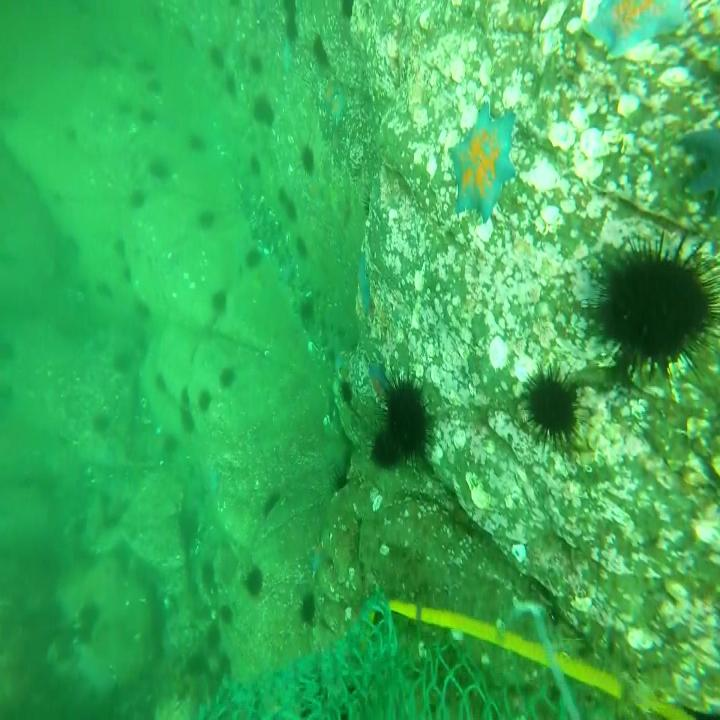echinus: (582, 228, 720, 386), (519, 361, 584, 455), (384, 368, 430, 466), (368, 429, 400, 472), (298, 588, 318, 630), (330, 456, 350, 493), (244, 564, 265, 599), (252, 97, 274, 128), (312, 31, 329, 70), (185, 129, 210, 155), (80, 600, 100, 632), (187, 649, 208, 679), (218, 362, 237, 393), (262, 490, 282, 519), (300, 143, 316, 178), (199, 560, 216, 592), (211, 286, 229, 316), (148, 155, 168, 181), (338, 374, 354, 406), (0, 334, 16, 366), (284, 15, 302, 43), (244, 244, 263, 270), (299, 299, 316, 327), (0, 373, 14, 407), (91, 410, 110, 435), (136, 56, 158, 77), (205, 621, 222, 648), (116, 97, 134, 121), (180, 409, 197, 434), (210, 46, 225, 74), (164, 431, 179, 458), (145, 76, 165, 96), (112, 352, 131, 373), (138, 107, 157, 128), (224, 71, 238, 99), (134, 297, 151, 320), (198, 388, 213, 414), (295, 235, 311, 259), (64, 123, 80, 146), (184, 24, 197, 52), (198, 208, 215, 229), (219, 602, 234, 625), (94, 279, 112, 298), (340, 0, 357, 20), (130, 187, 145, 208), (250, 152, 262, 177), (154, 371, 168, 391), (250, 54, 262, 76), (282, 0, 298, 16), (180, 386, 192, 406), (277, 185, 288, 206), (286, 202, 298, 221), (114, 236, 125, 255), (122, 265, 133, 282)
starfish: (446, 97, 517, 226), (585, 0, 690, 64), (682, 111, 720, 218), (356, 253, 373, 320), (367, 357, 389, 392), (329, 90, 345, 120)
